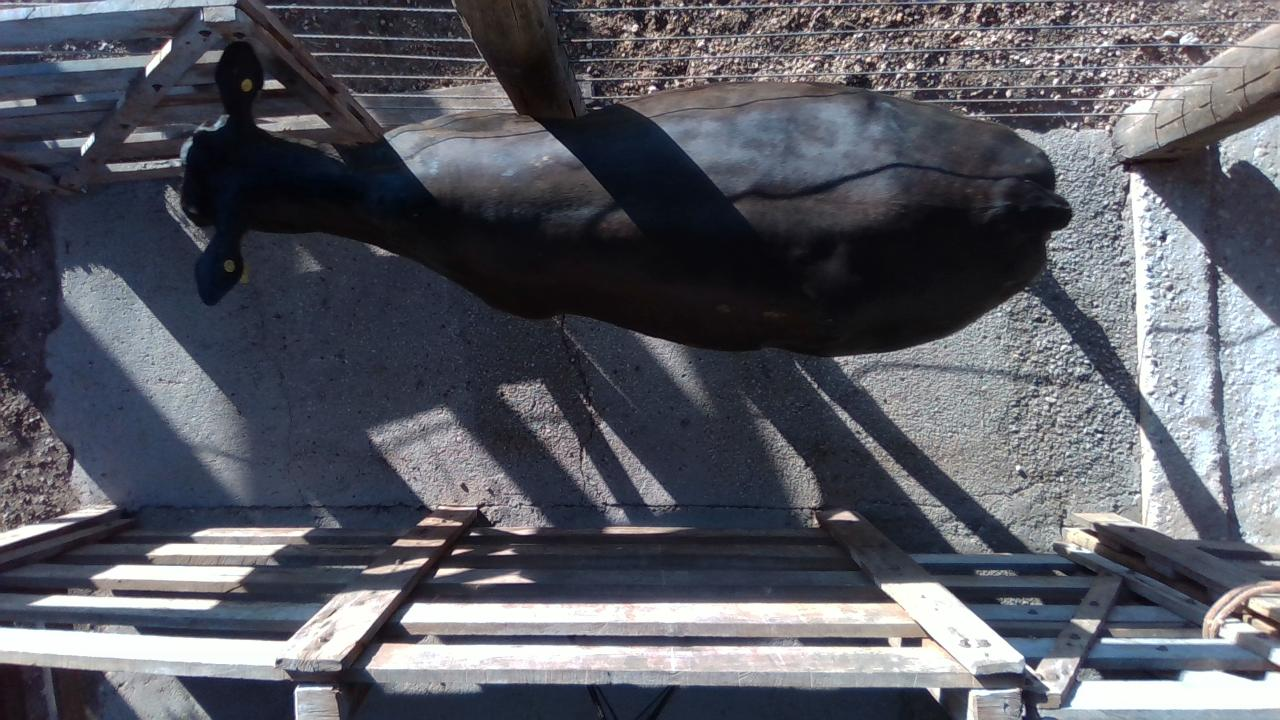cattle: (178, 39, 1073, 358)
